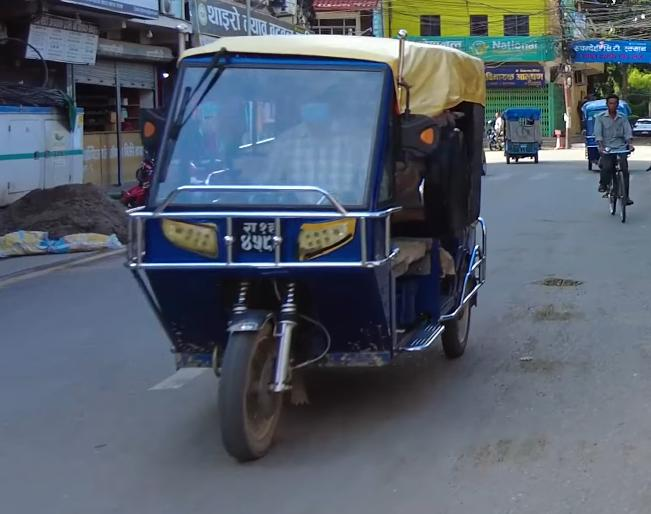e-rickshaw: (131, 30, 490, 463), (502, 105, 542, 166)
